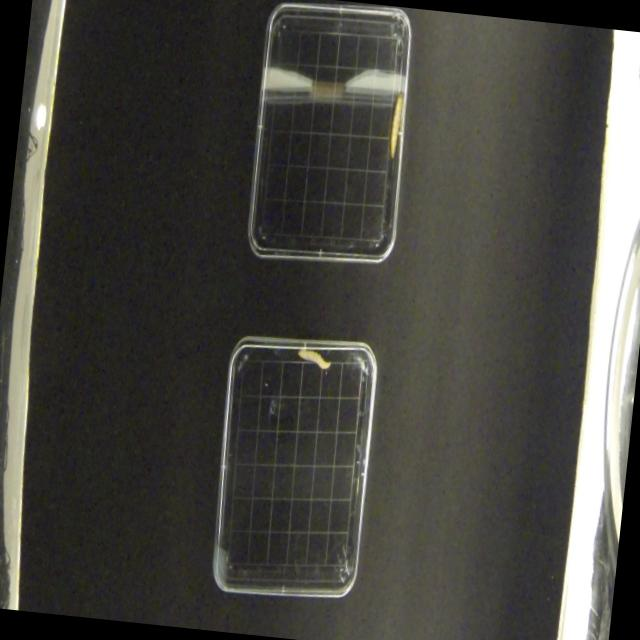larva: (385, 95, 405, 158), (296, 346, 333, 372)
